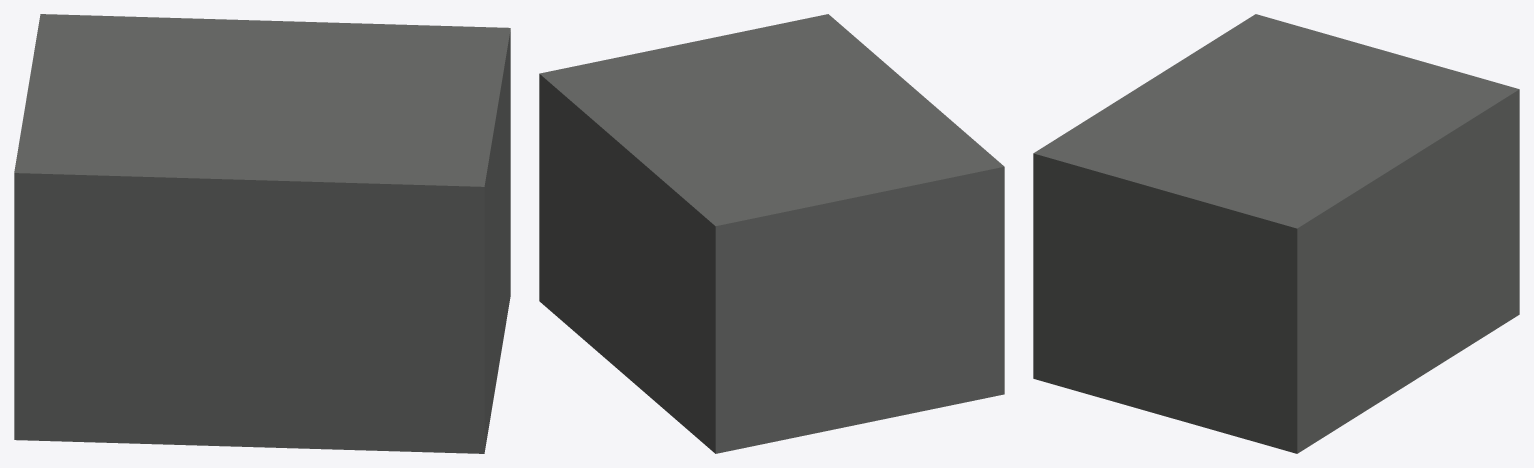
File: structure_pullman_hotel_block.glb
3 views of the same model, side by side, from view 1: azimuth 30°, elevation 25°; view 2: azimuth 150°, elevation 25°; view 3: azimuth 270°, elevation 25° (orthographic). The views are drawn at different scales.
Parts seen in each view (by area): view 1: structure_pullman_hotel_block; view 2: structure_pullman_hotel_block; view 3: structure_pullman_hotel_block.
Part boxes in pixels (x1,y1,x2,y2): structure_pullman_hotel_block: (14, 14, 510, 453); structure_pullman_hotel_block: (539, 14, 1004, 453); structure_pullman_hotel_block: (1033, 14, 1519, 453).
Bounding box in the file's own units: 28.09 × 13.75 × 26.9.
1 material, 1 textured.
